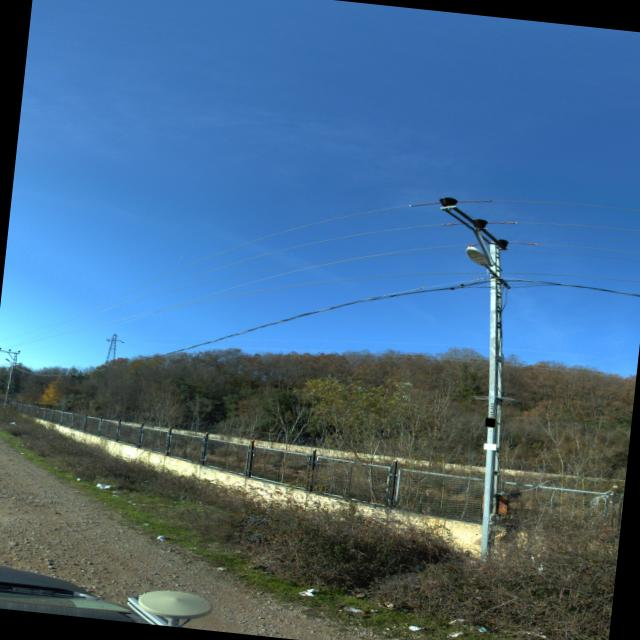Utility Pole Information Plate: (486, 417, 495, 427)
